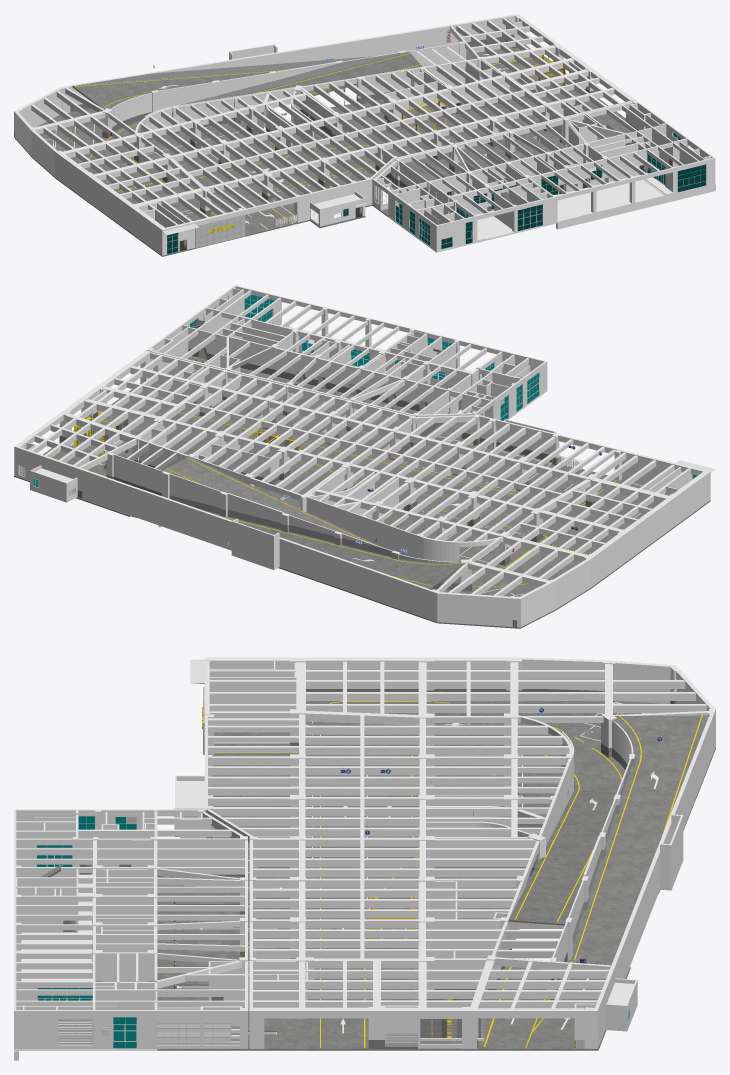
The picture shows the model from 3 angles, top to bottom: view 1: azimuth 30°, elevation 25°; view 2: azimuth 150°, elevation 25°; view 3: azimuth 270°, elevation 25°; orthographic projection. The views are drawn at different scales.
Parts seen in each view (by area): view 1: 矩形梁, 墙, 楼板, 柱, 车行道, 玻璃, 车道踢脚线, 不锈钢, 装饰墙, 踢脚线, 踢脚线.001, 洗车机 (+2 smaller); view 2: 矩形梁, 墙, 楼板, 柱, 车行道, 车道踢脚线, 玻璃, 踢脚线.001, 踢脚线, 标线, 不锈钢, 洗车机; view 3: 矩形梁, 墙, 楼板, 车行道, 柱, 百叶, 玻璃, 标线, 踢脚线.001, 不锈钢, 洗车机, 停车位 (+1 smaller).
Boxes of the visible parts, x1,y1,x2,y2 form: 矩形梁: (14,14,715,232); 墙: (14,17,715,253); 楼板: (14,45,631,256); 柱: (14,14,638,255); 车行道: (72,51,421,109); 玻璃: (167,133,705,253); 车道踢脚线: (78,52,406,105); 不锈钢: (167,133,705,254); 装饰墙: (195,214,245,248); 踢脚线: (14,68,608,222); 踢脚线.001: (70,37,638,187); 洗车机: (401,55,565,136); 矩形梁: (18,285,707,603); 墙: (18,288,707,627); 楼板: (14,356,710,628); 柱: (14,307,710,621); 车行道: (131,456,465,599); 车道踢脚线: (169,495,460,583); 玻璃: (33,293,697,487); 踢脚线.001: (101,348,551,589); 踢脚线: (60,352,595,627); 标线: (52,412,616,586); 不锈钢: (18,293,694,495); 洗车机: (74,410,299,464); 矩形梁: (14,657,715,1018); 墙: (14,660,713,1060); 楼板: (157,701,715,1050); 车行道: (508,715,709,965); 柱: (14,657,715,1048); 百叶: (58,816,599,1048); 玻璃: (37,816,629,1048); 标线: (200,701,702,1047); 踢脚线.001: (157,689,665,1048); 不锈钢: (36,816,629,1048); 洗车机: (370,897,481,1037); 停车位: (212,701,650,872).
Size of the model in its own units: 104 by 10.4 by 87.26.
Materials: 73 (3 with a texture image).
